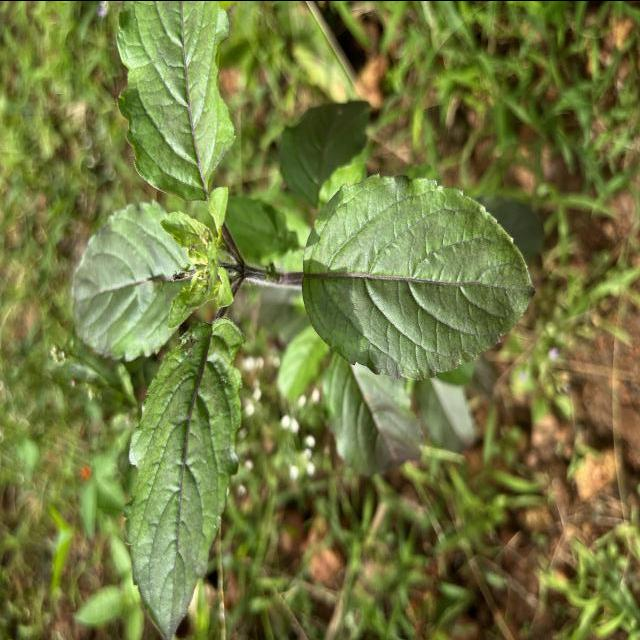Ocimum tenuiflorum: (300, 172, 540, 380), (119, 314, 248, 640)
